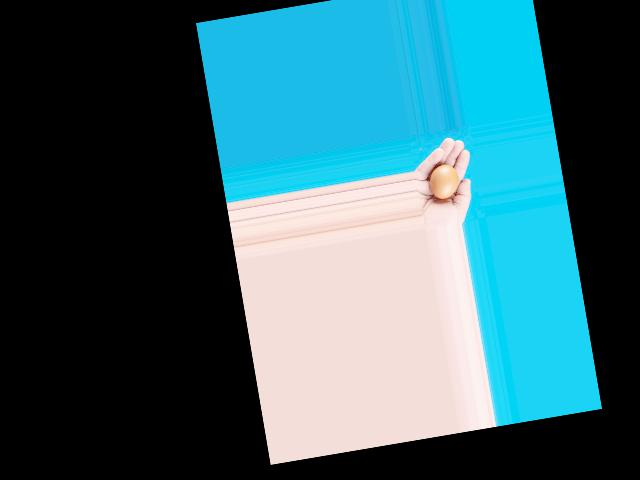egg: (427, 162, 460, 200)
